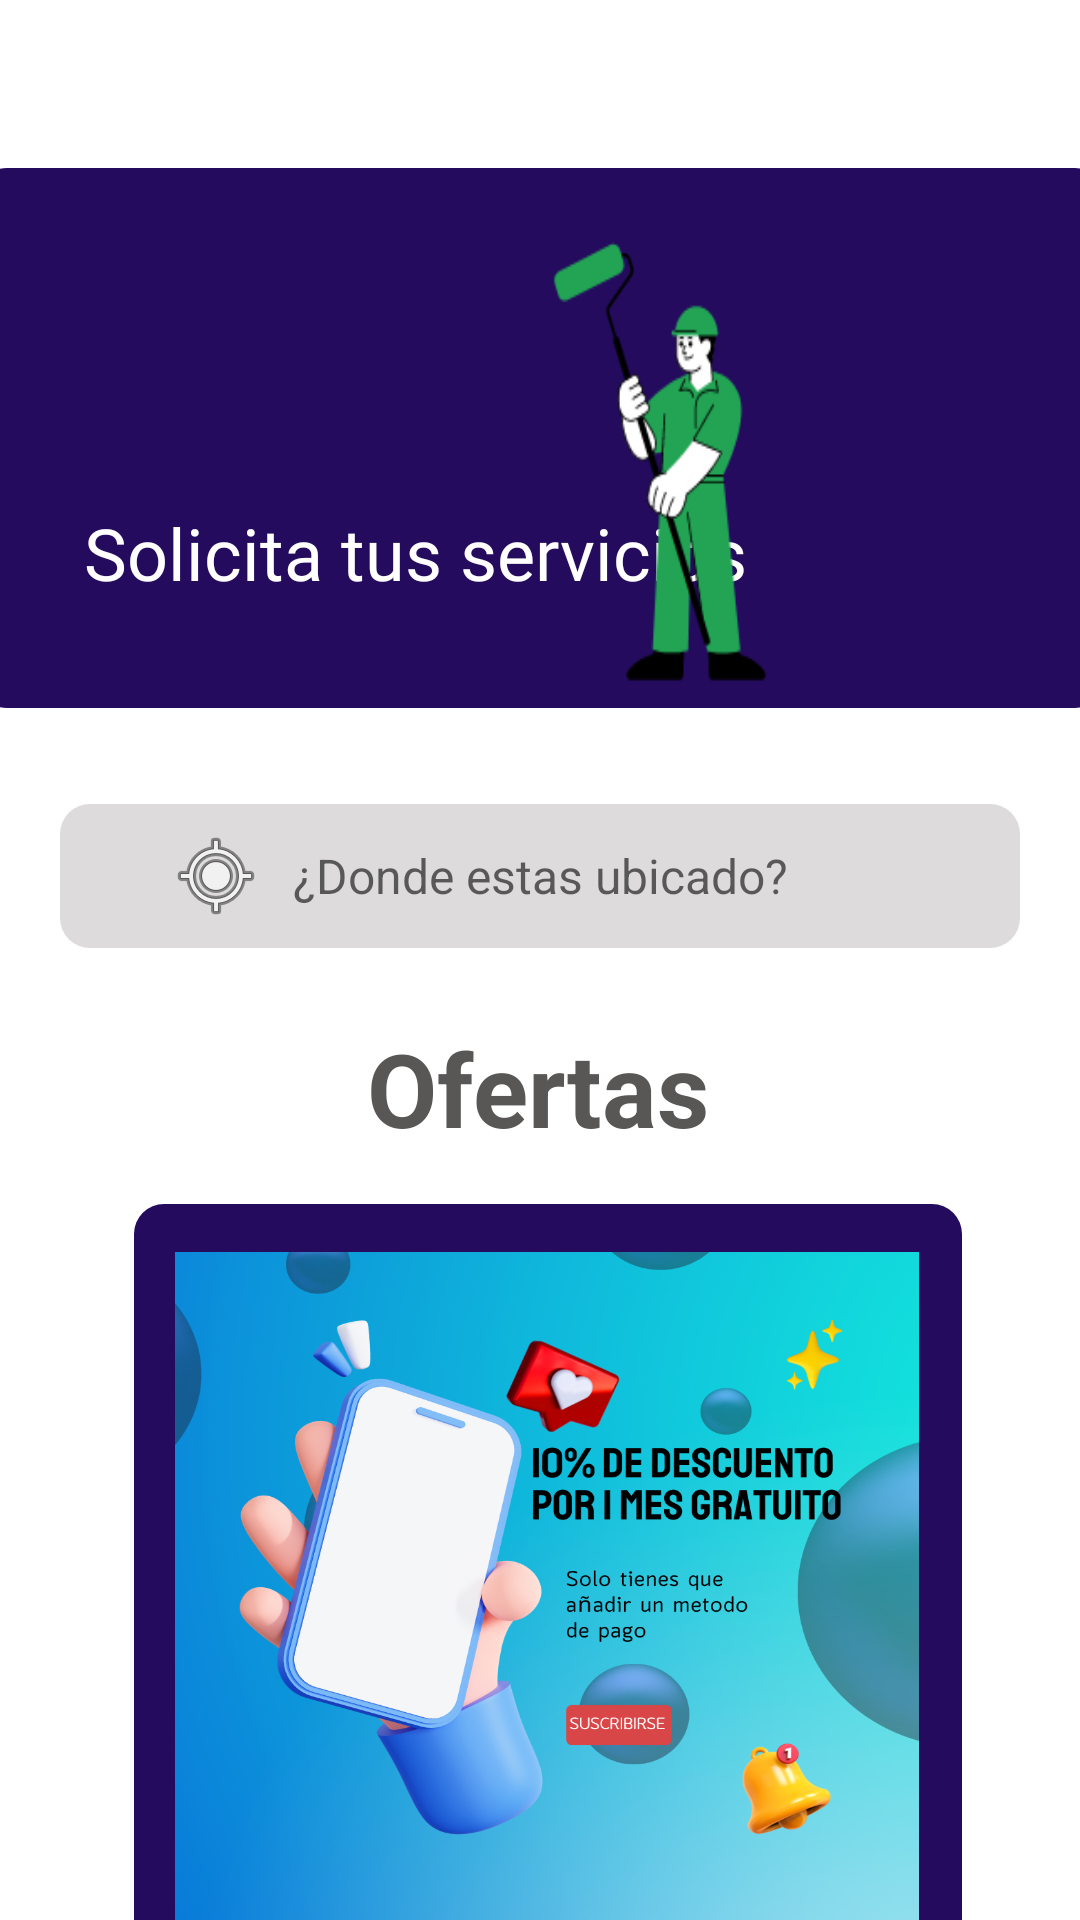

Where icons sit on this 1080 x 1920 app screen, as (x1, y1, x2, y2):
mylocation: (178, 838, 254, 914)
